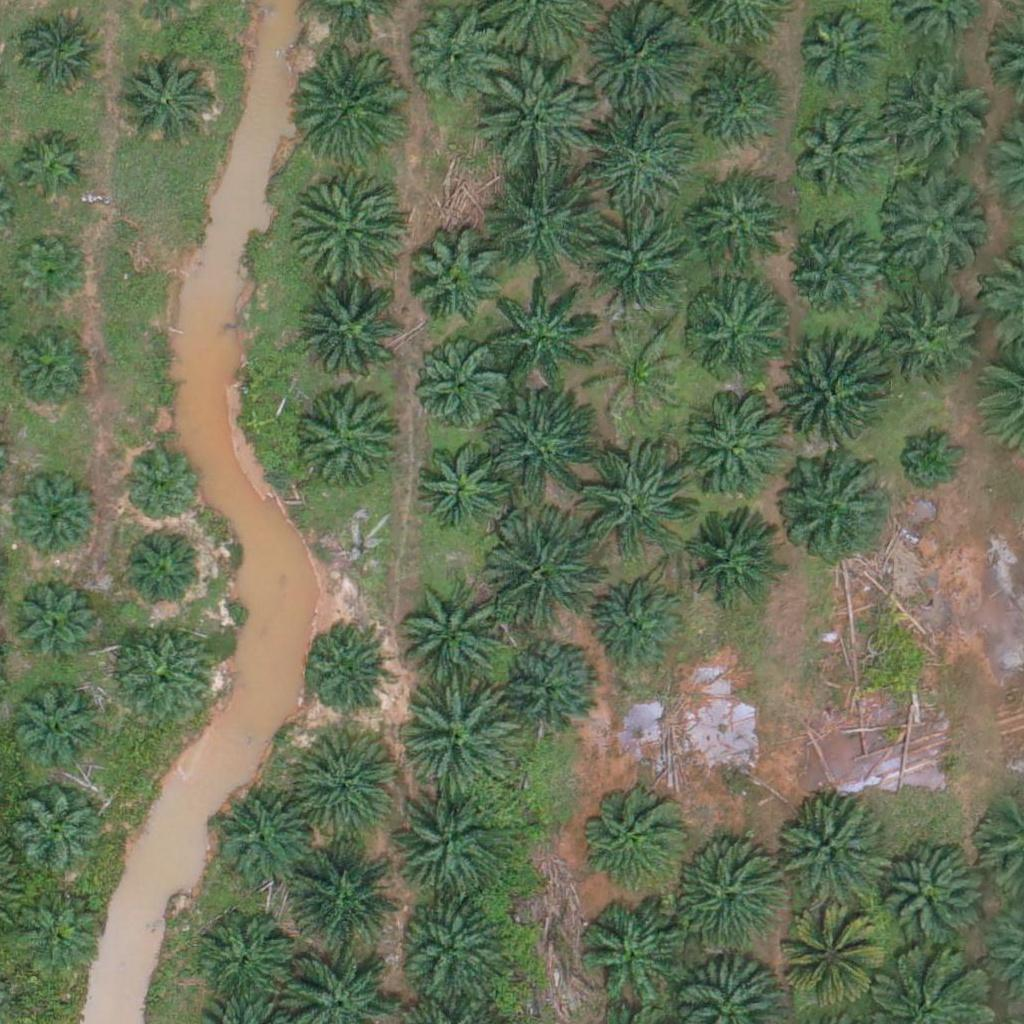Kelapa_Sawit: (399, 887, 512, 1001), (487, 515, 600, 629), (390, 792, 503, 906), (288, 728, 401, 842), (294, 46, 407, 160), (576, 902, 689, 1015), (870, 841, 983, 954), (875, 171, 988, 284), (774, 340, 887, 453), (488, 389, 601, 502), (478, 63, 591, 176), (290, 170, 403, 283), (682, 390, 794, 504), (583, 101, 695, 215), (584, 214, 696, 328), (577, 779, 689, 893), (287, 836, 399, 950), (297, 279, 409, 393), (773, 798, 885, 911), (663, 842, 775, 955), (882, 54, 994, 167), (776, 456, 888, 569), (580, 445, 692, 558), (485, 276, 597, 389), (489, 161, 601, 274), (401, 569, 513, 682), (405, 683, 517, 796), (194, 909, 294, 1010), (884, 290, 984, 391), (781, 222, 881, 323), (590, 318, 690, 419), (497, 636, 597, 737), (407, 336, 507, 437), (411, 432, 511, 533), (300, 388, 400, 489), (115, 52, 215, 153), (113, 621, 213, 722), (5, 682, 105, 783), (213, 789, 313, 890), (778, 913, 878, 1013), (683, 509, 783, 609), (687, 180, 787, 280), (680, 281, 780, 381), (586, 582, 686, 682), (404, 229, 504, 329), (407, 6, 507, 106), (792, 109, 880, 197), (689, 63, 777, 151), (2, 325, 90, 413), (16, 886, 104, 974), (795, 6, 883, 94), (18, 11, 106, 99), (301, 622, 388, 710), (13, 478, 100, 566), (120, 524, 207, 612), (14, 794, 101, 882), (9, 573, 96, 661), (14, 238, 89, 314), (123, 451, 198, 527), (17, 133, 92, 208), (894, 419, 969, 494)
